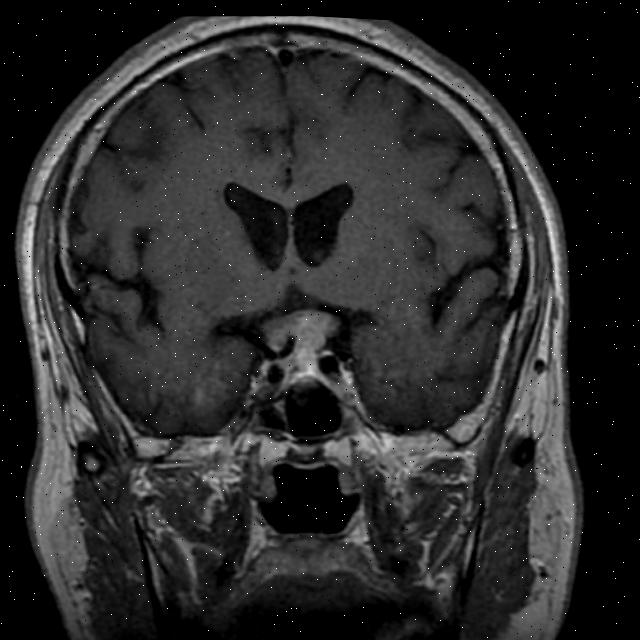Pituitary: (257, 305, 344, 393)
